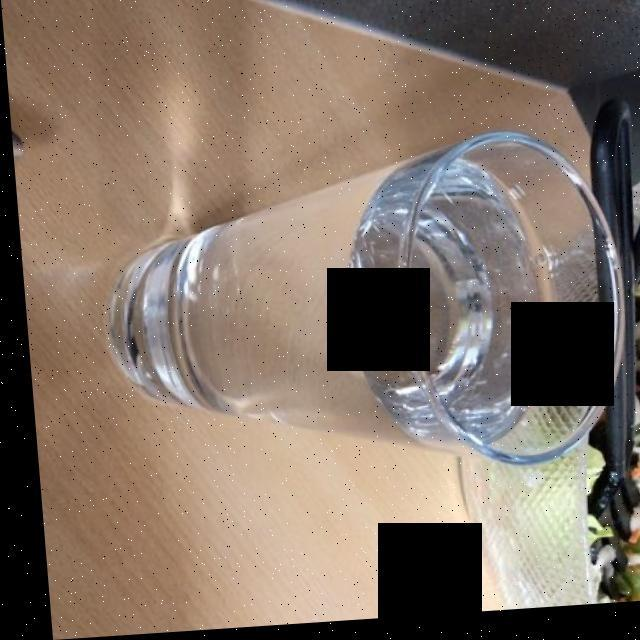water: (114, 166, 537, 436)
